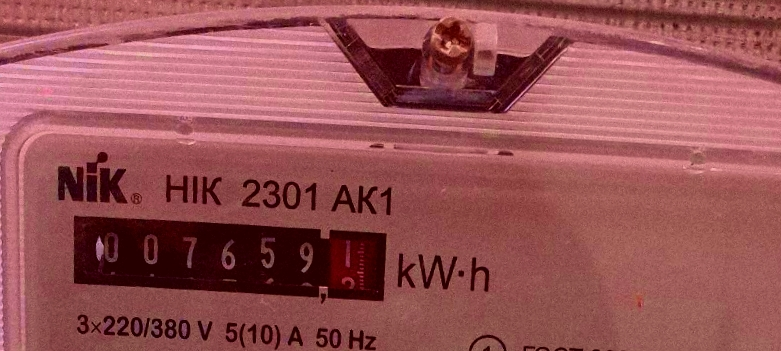0: (137, 230, 163, 268), (98, 227, 122, 267)
1: (338, 235, 357, 272)
5: (256, 233, 278, 272)
6: (215, 235, 240, 273)
7: (175, 232, 199, 271)
9: (293, 238, 317, 277)
screen: (58, 202, 398, 317)
